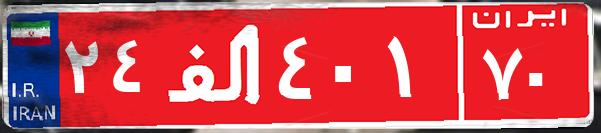0: (330, 28, 385, 110), (525, 38, 570, 115)
1: (385, 28, 445, 110)
2: (57, 26, 110, 107)
4: (273, 28, 330, 110), (110, 28, 158, 105)
7: (475, 38, 525, 113)
الف: (158, 15, 273, 115)
